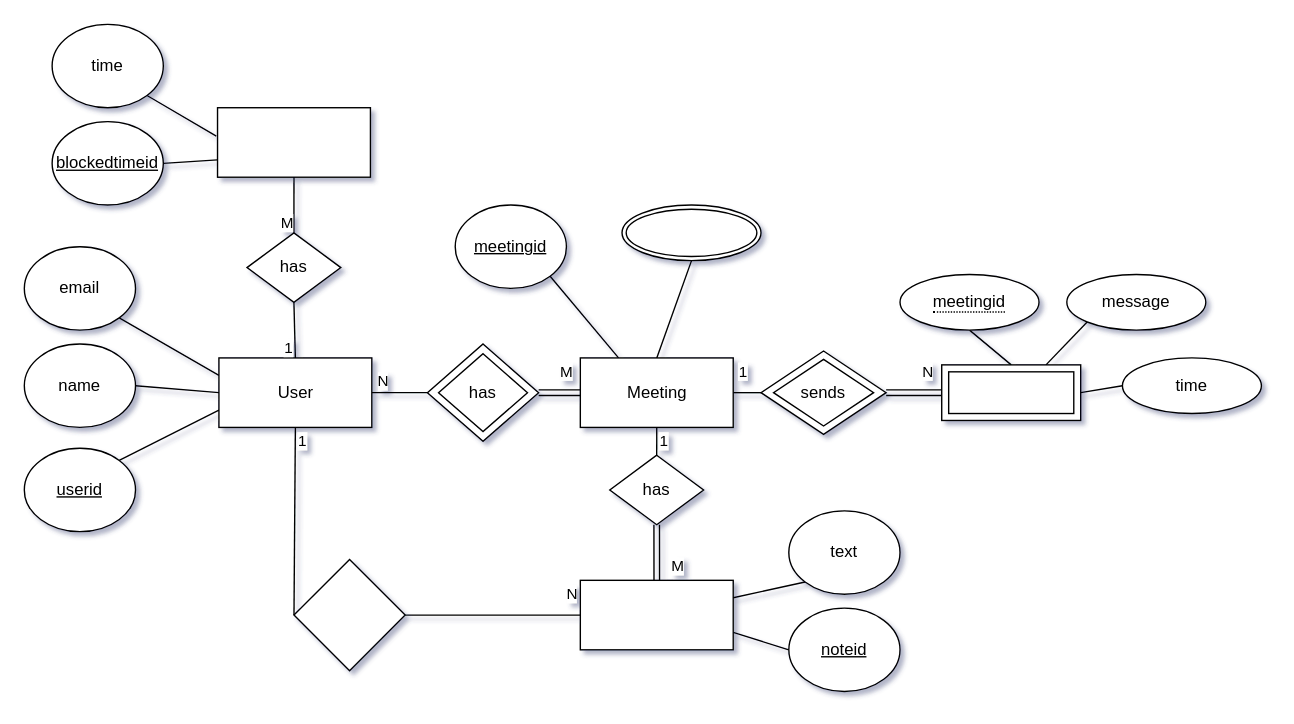
The diagram is 1294 pixels wide and 724 high, and some of its shapes have lost their labels. The shapes that lost their labels are listed below. From the top down, each one's centre as x and y in pixels, then its label:
[293,141]: Blocked Time
[691,232]: suggestedtimes
[1010,391]: Notification
[349,614]: writes
[656,614]: Note
